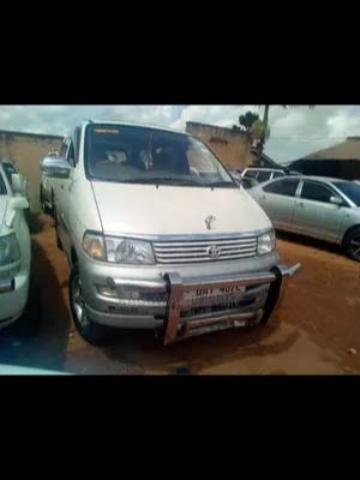van: (40, 119, 297, 342)
